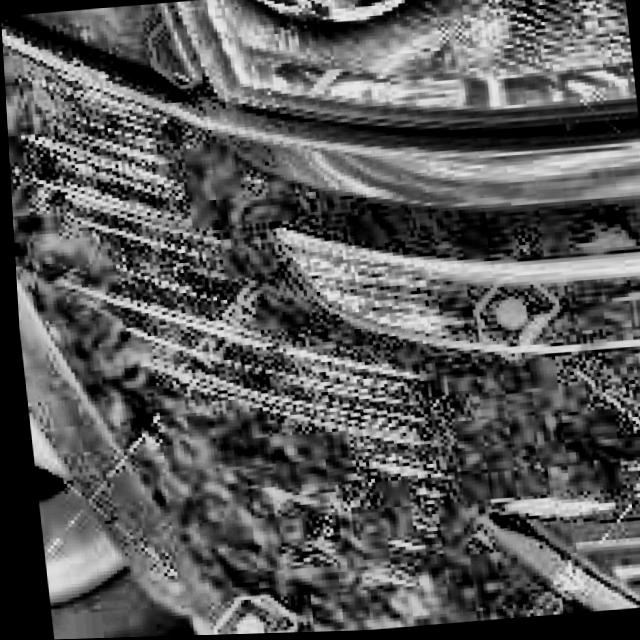bumper_scratch: (116, 290, 456, 550), (4, 57, 217, 308), (279, 227, 477, 357)
